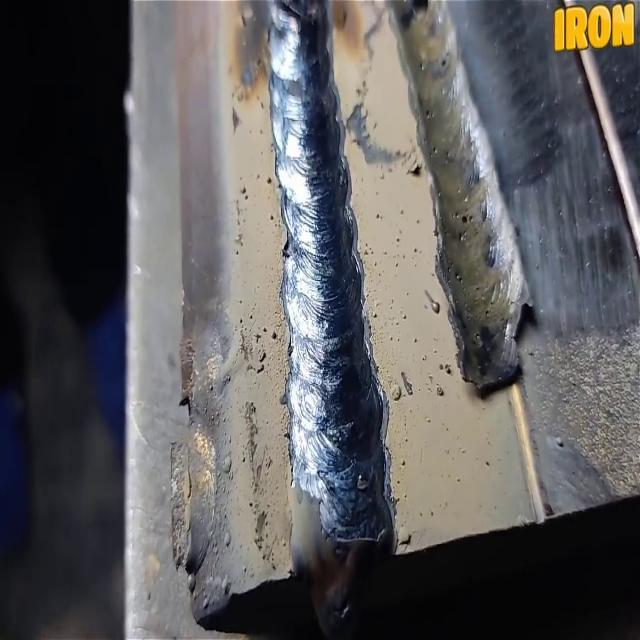Good Weld: (266, 1, 374, 486)
